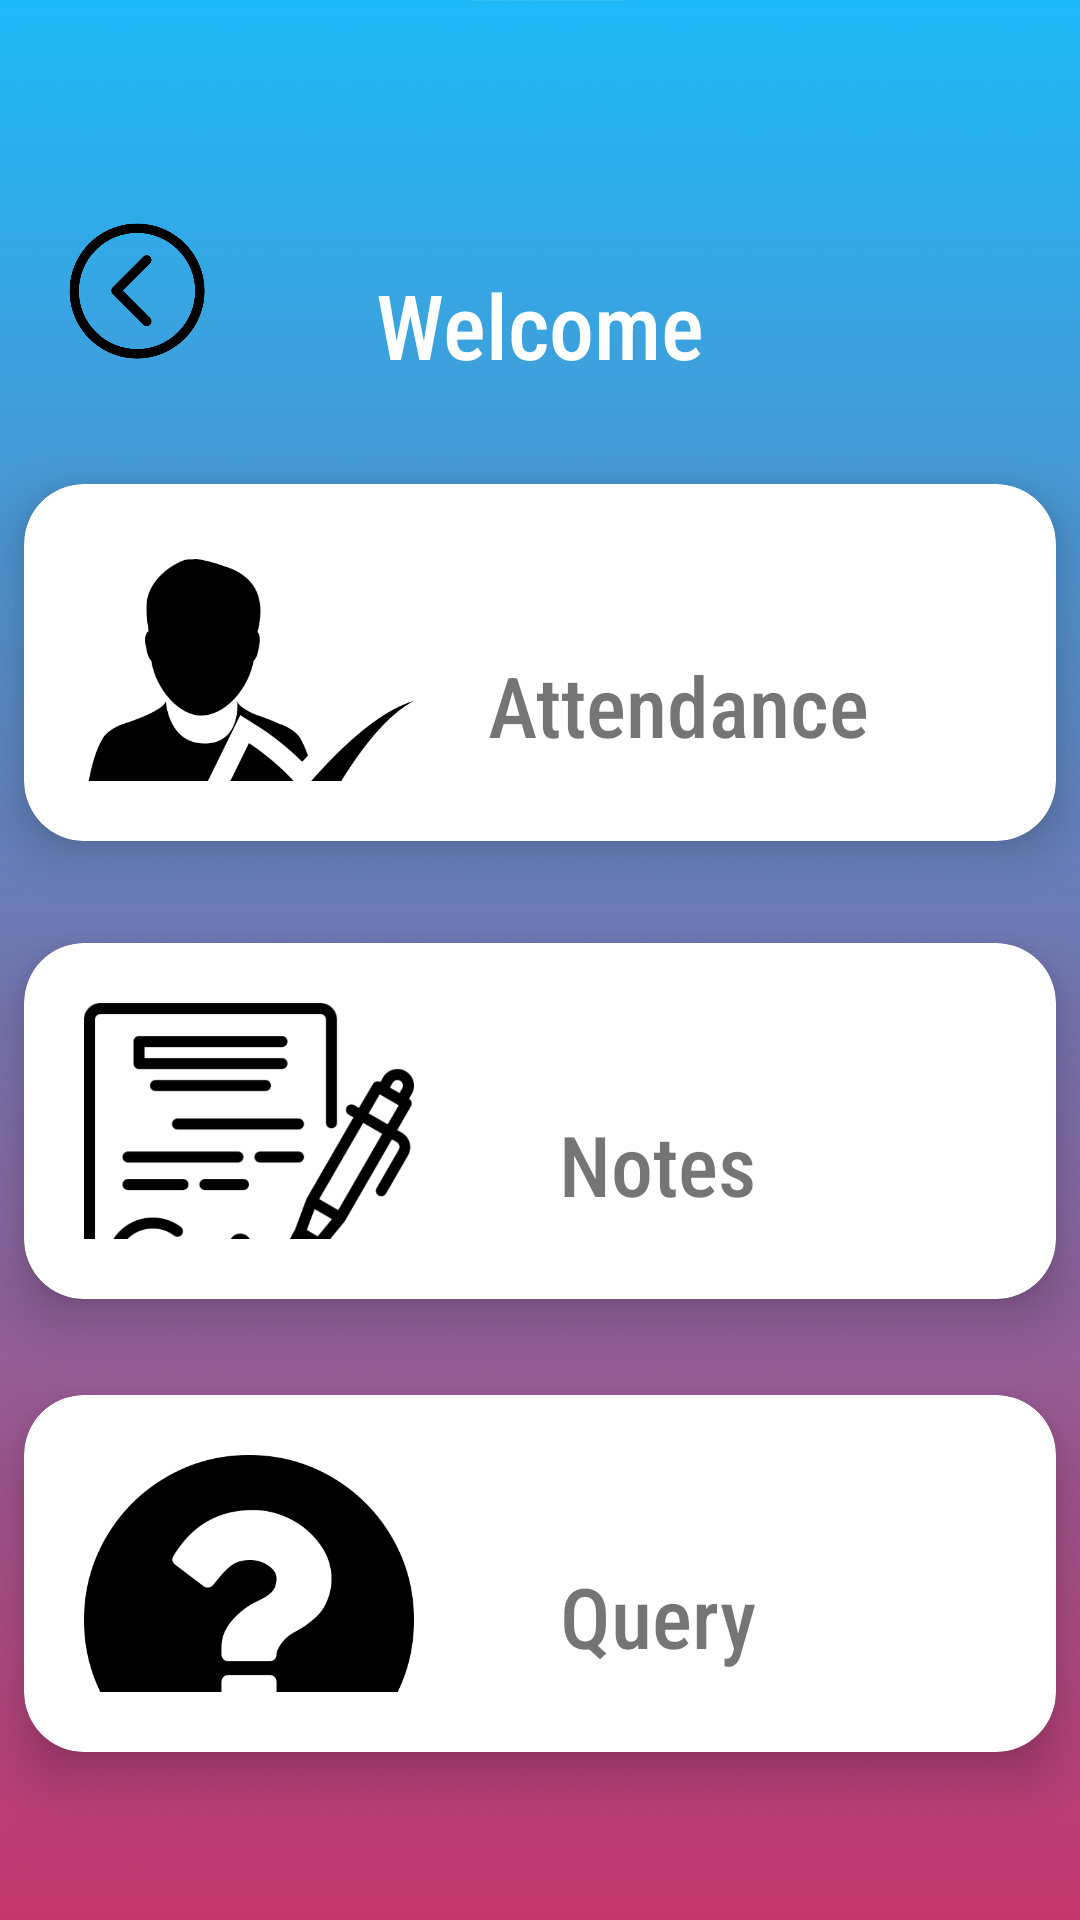

Icon bounding boxes for this 1080*1920 phone screenshot, format (x1, y1, x2, y2):
back: (69, 223, 205, 359)
question: (84, 1455, 414, 1692)
